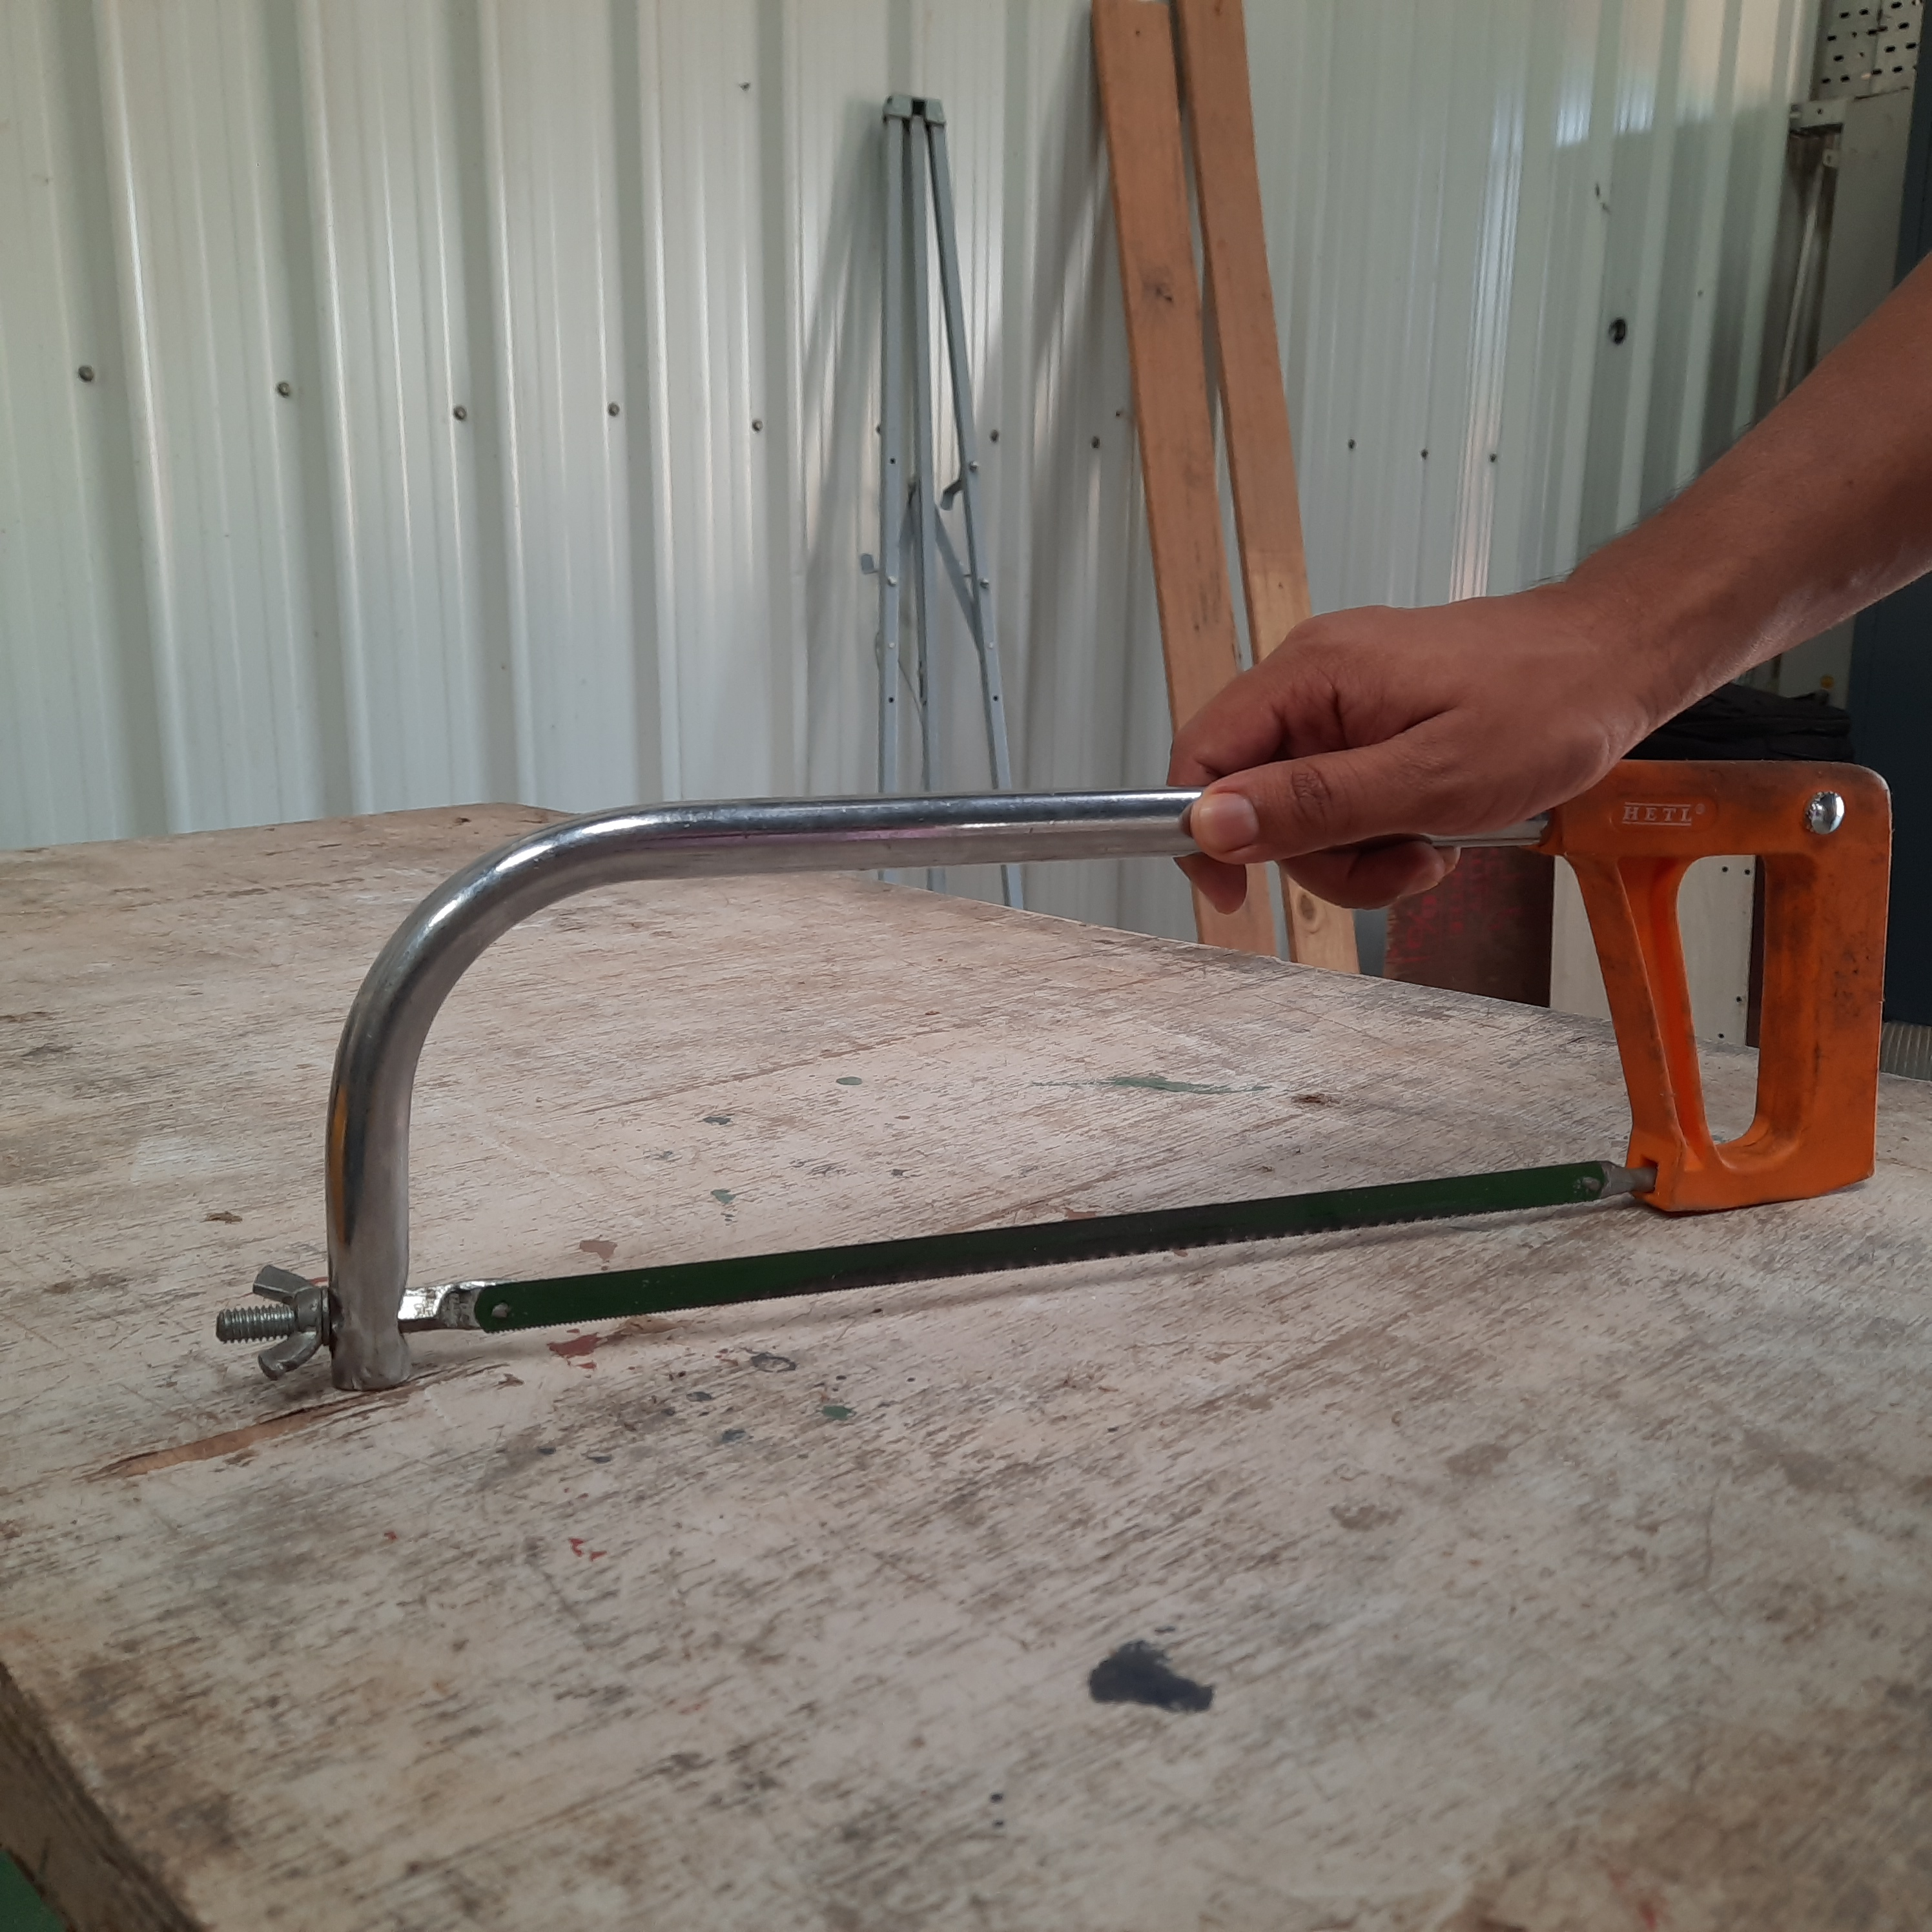Hexaframe: (211, 761, 1904, 1414)
